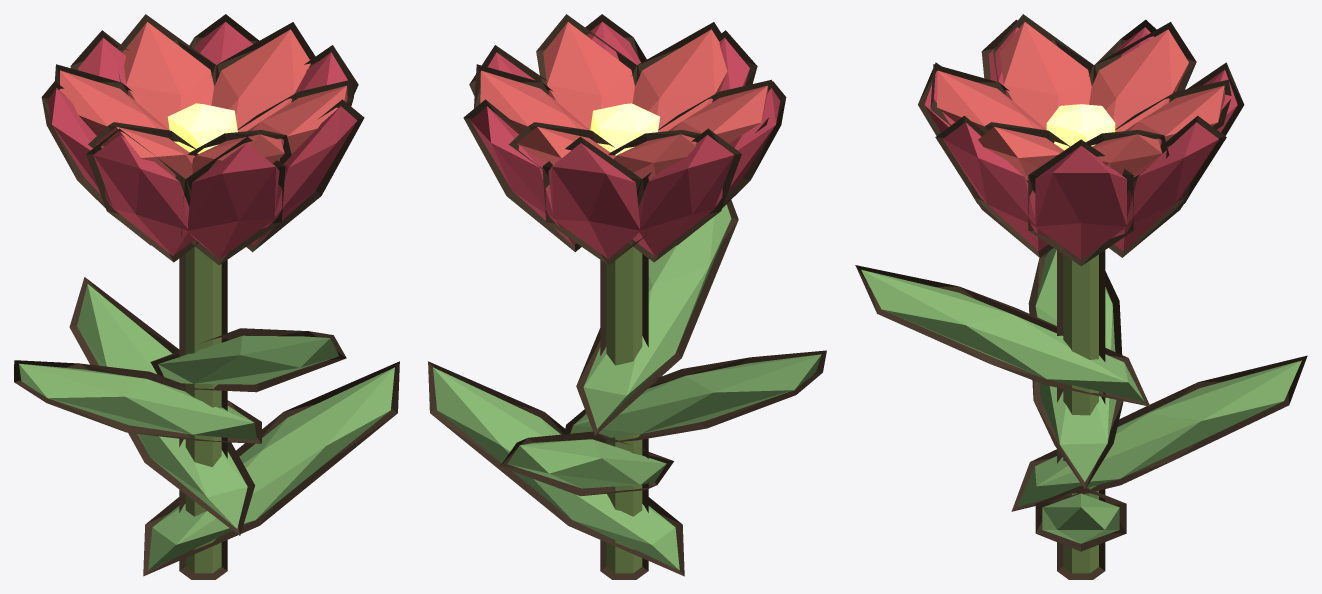
Rendered from herb_red.fbx.
The picture shows the model from 3 angles, left to right: view 1: azimuth 30°, elevation 25°; view 2: azimuth 150°, elevation 25°; view 3: azimuth 270°, elevation 25°; orthographic projection.
Visible parts, largest first — view 1: Leaf0, Leaf2, Leaf1, Petal0_5, Leaf3, Stem, Petal0_4, Petal1_1, Petal1_0, Petal0_6, Petal1_2, Petal1_5 (+7 smaller); view 2: Leaf0, Leaf3, Leaf2, Petal0_2, Stem, Petal0_3, Leaf1, Petal1_5, Petal1_4, Petal0_1, Petal1_0, Petal1_3 (+7 smaller); view 3: Leaf3, Leaf1, Petal0_0, Leaf2, Stem, Petal1_2, Petal1_3, Petal0_1, Petal0_6, Leaf0, Petal1_4, Petal1_1 (+7 smaller).
Part boxes in pixels (left/top/right/bottom): Leaf0: left=143, top=361, right=399, bottom=576; Leaf2: left=14, top=360, right=261, bottom=443; Leaf1: left=69, top=277, right=255, bottom=535; Petal0_5: left=181, top=136, right=285, bottom=265; Leaf3: left=150, top=328, right=346, bottom=392; Stem: left=179, top=246, right=227, bottom=579; Petal0_4: left=86, top=128, right=199, bottom=262; Petal1_1: left=117, top=14, right=219, bottom=129; Petal1_0: left=211, top=22, right=318, bottom=131; Petal0_6: left=246, top=99, right=364, bottom=252; Petal1_2: left=54, top=64, right=168, bottom=135; Petal1_5: left=237, top=80, right=353, bottom=161; Leaf0: left=428, top=361, right=684, bottom=576; Leaf3: left=576, top=200, right=738, bottom=435; Leaf2: left=564, top=350, right=826, bottom=443; Petal0_2: left=542, top=136, right=646, bottom=265; Stem: left=600, top=246, right=648, bottom=579; Petal0_3: left=628, top=128, right=741, bottom=262; Leaf1: left=500, top=431, right=673, bottom=496; Petal1_5: left=536, top=14, right=639, bottom=129; Petal1_4: left=631, top=22, right=727, bottom=132; Petal0_1: left=463, top=99, right=581, bottom=251; Petal1_0: left=474, top=64, right=589, bottom=134; Petal1_3: left=658, top=79, right=773, bottom=143; Leaf3: left=855, top=265, right=1150, bottom=406; Leaf1: left=1011, top=355, right=1307, bottom=511; Petal0_0: left=1028, top=139, right=1133, bottom=266; Leaf2: left=1028, top=248, right=1123, bottom=489; Stem: left=1057, top=250, right=1105, bottom=579; Petal1_2: left=1088, top=22, right=1196, bottom=131; Petal1_3: left=993, top=14, right=1096, bottom=129; Petal0_1: left=1109, top=115, right=1226, bottom=257; Petal0_6: left=935, top=116, right=1053, bottom=257; Leaf0: left=1035, top=485, right=1126, bottom=551; Petal1_4: left=930, top=64, right=1046, bottom=130; Petal1_1: left=1115, top=79, right=1231, bottom=177.
Size of the model in its own units: 0.202 by 0.2456 by 0.2017.
